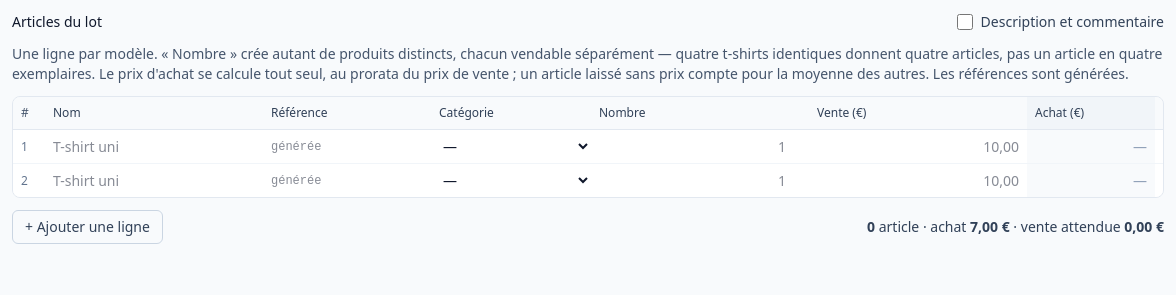
LotLines › récapitule le nombre d’articles, l’achat et la marge
Type "T-shirt" into the 1st field with placeholder "T-shirt uni" at (154, 146), box left=45, top=130, right=263, bottom=162
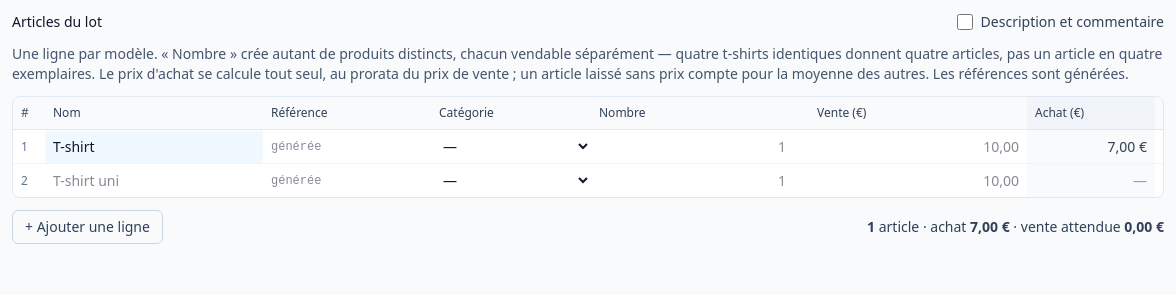
Type "Chemise" into the field with placeholder "T-shirt uni" at (154, 180), box left=45, top=164, right=263, bottom=196
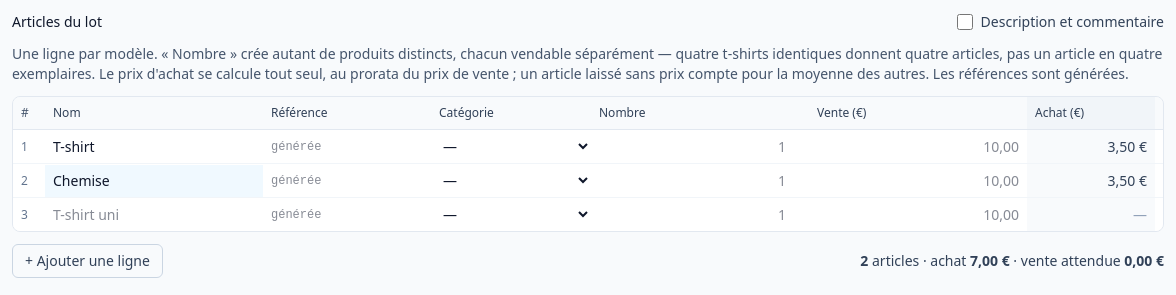
Type "10" into the 1st field with placeholder "10,00" at (918, 146), box left=809, top=130, right=1027, bottom=162
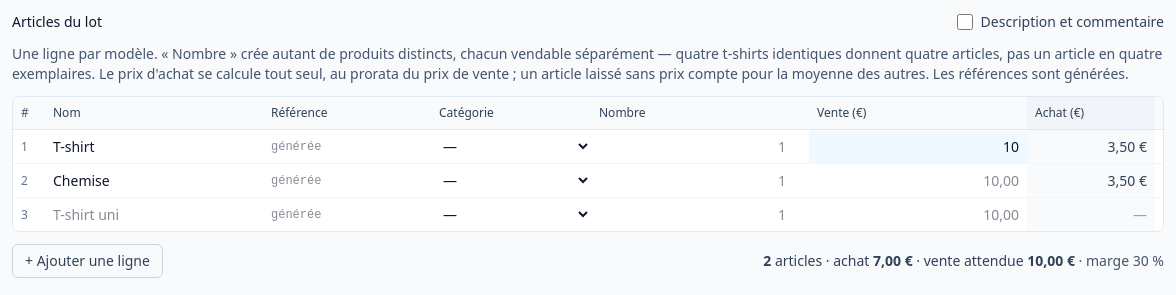
Type "4" into the 1st number field with placeholder "1" at (700, 146), box left=591, top=130, right=809, bottom=162
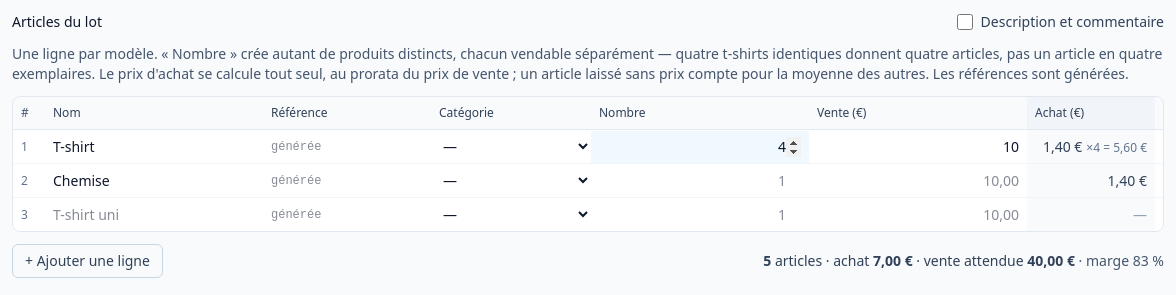
Type "20" into the 1st field with placeholder "10,00" at (918, 180), box left=809, top=164, right=1027, bottom=196
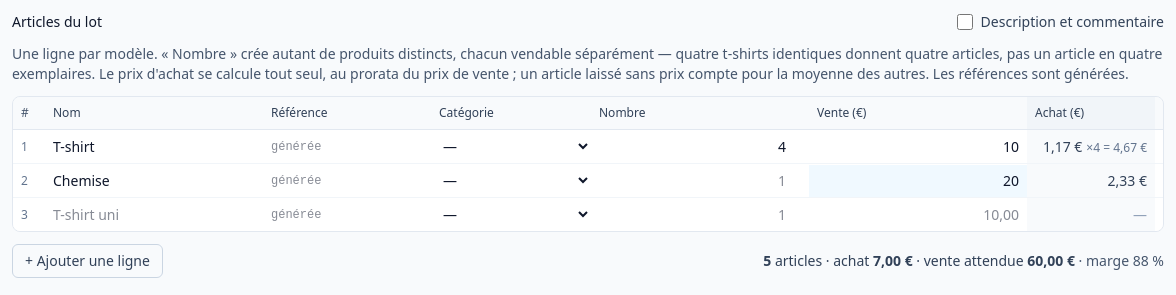
Type "2" into the number field with placeholder "1" in the row of "2,33 €" at (700, 180), box left=591, top=164, right=809, bottom=196
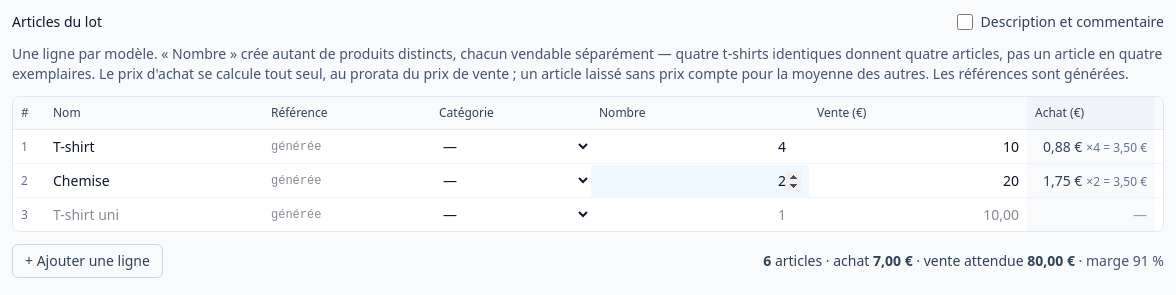
Expected: the message shows "6 articles", left=763, top=251, right=1164, bottom=271
Expected: the message shows "80,00 €", left=1027, top=251, right=1075, bottom=270
Expected: the message shows "91 %", left=763, top=251, right=1164, bottom=271
